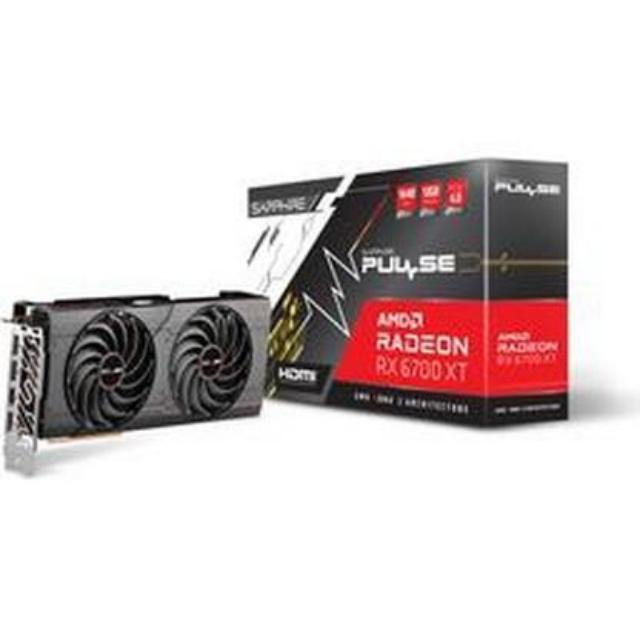GPU: (2, 291, 273, 446)
